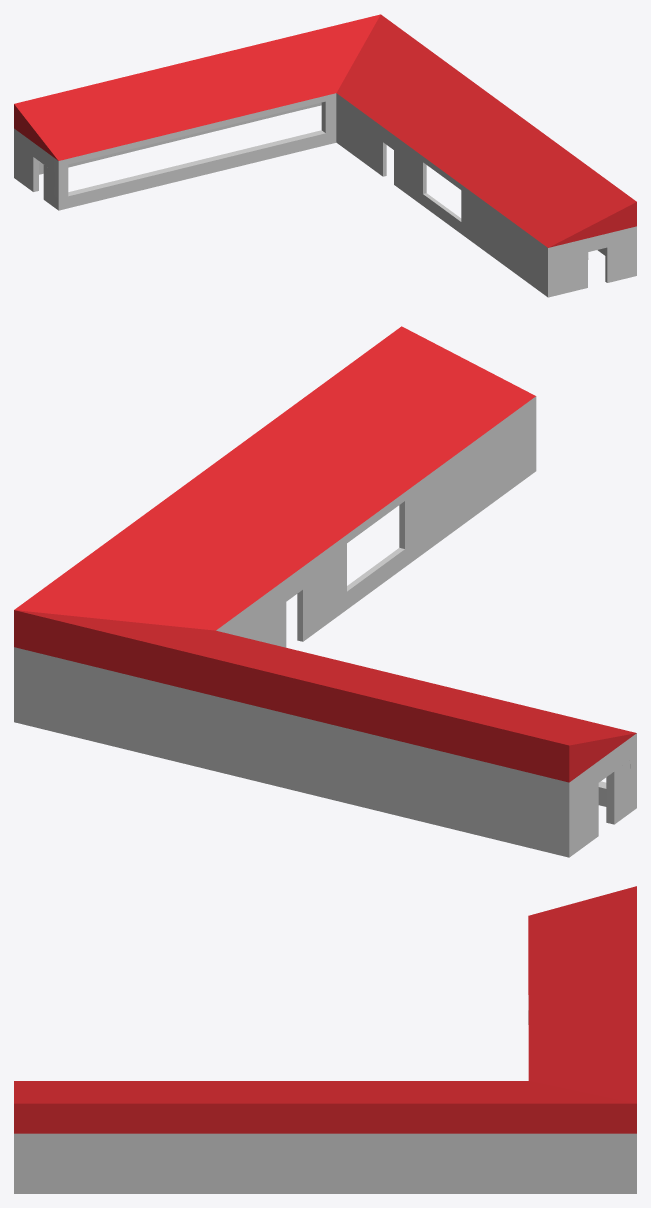
File: top1tex1.fbx
The picture shows the model from 3 angles, top to bottom: view 1: azimuth 30°, elevation 25°; view 2: azimuth 150°, elevation 25°; view 3: azimuth 270°, elevation 25°; orthographic projection. The views are drawn at different scales.
Parts seen in each view (by area): view 1: Plane.001; view 2: Plane.001; view 3: Plane.001.
Boxes of the visible parts, <box> form: Plane.001: <box>14,14,636,297</box>; Plane.001: <box>14,326,636,857</box>; Plane.001: <box>14,886,636,1193</box>.
Bounding box in the file's own units: 9113 × 1759 × 11019.
